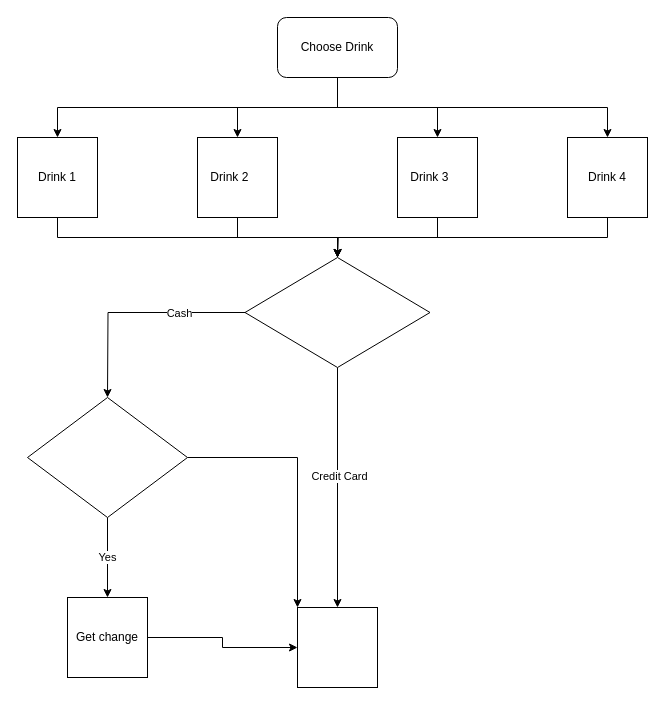
This 665x705 diagram has some shape labels left out. The centre of each missing label's shape, as x and y in pixels:
Get your chosen Drink: [337,647]
Is Cash payment more than value of Drink?: [107,457]
Pay with Cash or Credit Card: [337,312]
